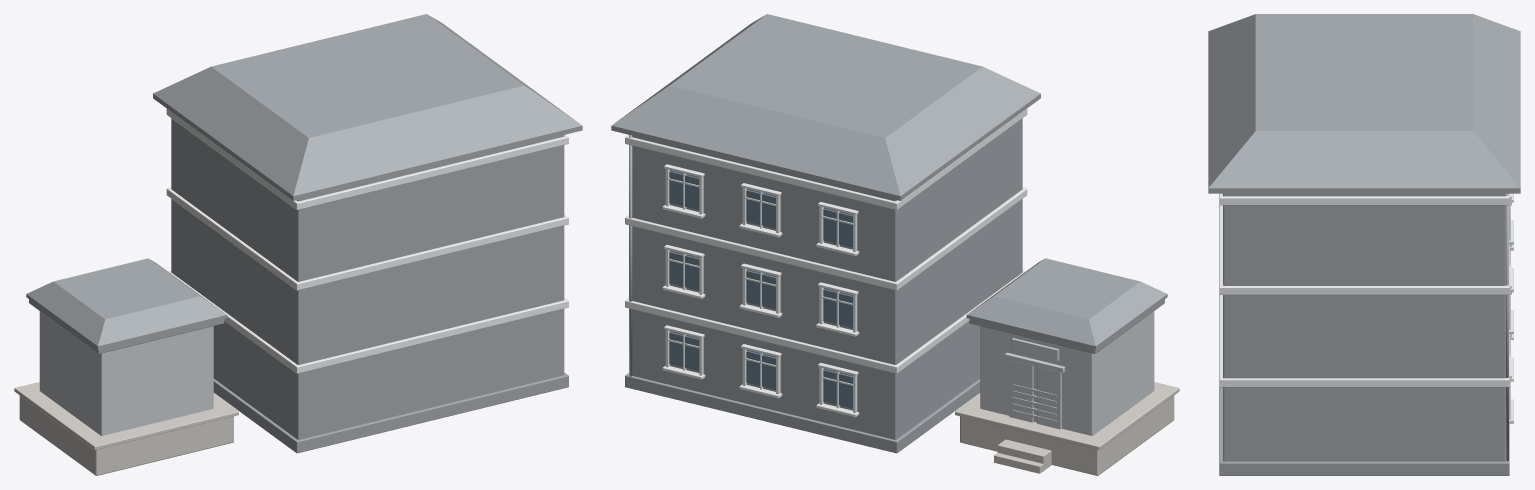
The model's file is Hamidiye_MursitTrafoAndGreyApt.fbx.
3 renders of one model, left to right at view 1: azimuth 30°, elevation 25°; view 2: azimuth 150°, elevation 25°; view 3: azimuth 270°, elevation 25°, orthographic. The views are drawn at different scales.
Parts seen in each view (by area): view 1: Mursit_GreyApt, Mursit_TrafoHouse, Mursit_TrafoRoof, Mursit_TrafoPlinth, Mursit_Stripe_6.2, Mursit_Stripe_9.2, Mursit_Stripe_3.1; view 2: Mursit_GreyApt, Mursit_TrafoHouse, Mursit_TrafoRoof, Mursit_TrafoPlinth, Mursit_Stripe_6.2, Mursit_Stripe_9.2, Mursit_Stripe_3.1, Mursit_Win_1_0.6, Mursit_Win_0_0.6, Mursit_Win_2_0.6, Mursit_Win_0_6.6, Mursit_Win_1_3.6 (+13 smaller); view 3: Mursit_GreyApt, Mursit_Stripe_3.1, Mursit_Stripe_6.2, Mursit_Stripe_9.2.
Boxes of the visible parts, x1,y1,x2,y2 form: Mursit_GreyApt: (153, 14, 582, 453); Mursit_TrafoHouse: (39, 311, 213, 435); Mursit_TrafoRoof: (26, 258, 227, 353); Mursit_TrafoPlinth: (14, 382, 238, 475); Mursit_Stripe_6.2: (166, 187, 568, 290); Mursit_Stripe_9.2: (166, 108, 568, 209); Mursit_Stripe_3.1: (168, 270, 568, 373); Mursit_GreyApt: (611, 14, 1040, 453); Mursit_TrafoHouse: (980, 311, 1154, 435); Mursit_TrafoRoof: (966, 258, 1167, 353); Mursit_TrafoPlinth: (955, 382, 1179, 475); Mursit_Stripe_6.2: (625, 187, 1027, 290); Mursit_Stripe_9.2: (625, 108, 1027, 209); Mursit_Stripe_3.1: (625, 270, 1025, 373); Mursit_Win_1_0.6: (816, 282, 859, 336); Mursit_Win_0_0.6: (816, 362, 859, 417); Mursit_Win_2_0.6: (816, 202, 859, 256); Mursit_Win_0_6.6: (662, 325, 705, 379); Mursit_Win_1_3.6: (739, 263, 782, 317); Mursit_GreyApt: (1208, 14, 1520, 475); Mursit_Stripe_3.1: (1219, 295, 1509, 387); Mursit_Stripe_6.2: (1219, 205, 1509, 294); Mursit_Stripe_9.2: (1219, 193, 1509, 205).
Bounding box in the file's own units: 17.86 × 11.06 × 9.48.
